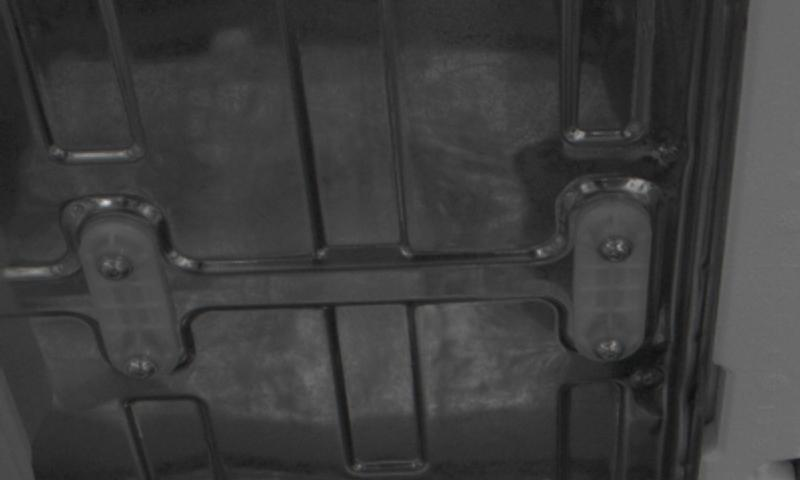vida-ok: (590, 228, 633, 273), (88, 242, 128, 287), (111, 343, 153, 383), (587, 331, 627, 369)
